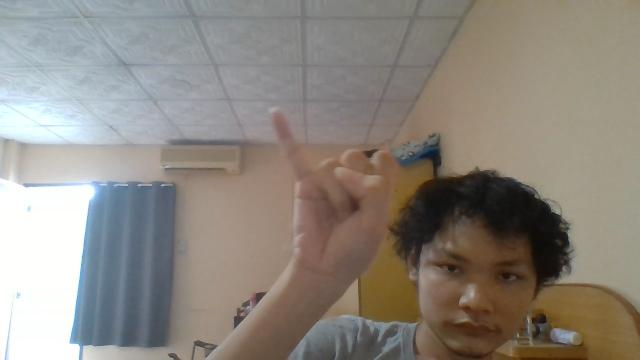Right: (270, 104, 396, 284)
